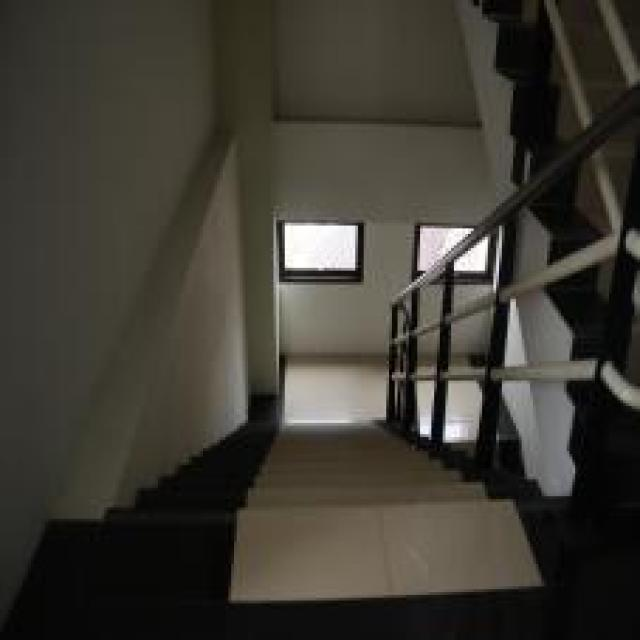downstair: (227, 430, 427, 582)
